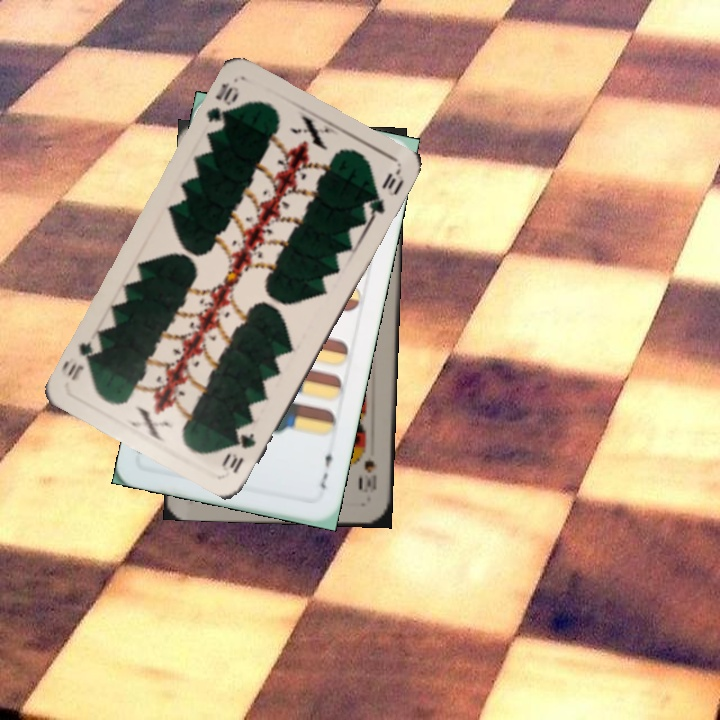E7: (316, 443, 336, 492)
G10: (202, 78, 242, 135), (219, 429, 258, 477)
S10: (357, 442, 380, 495)
